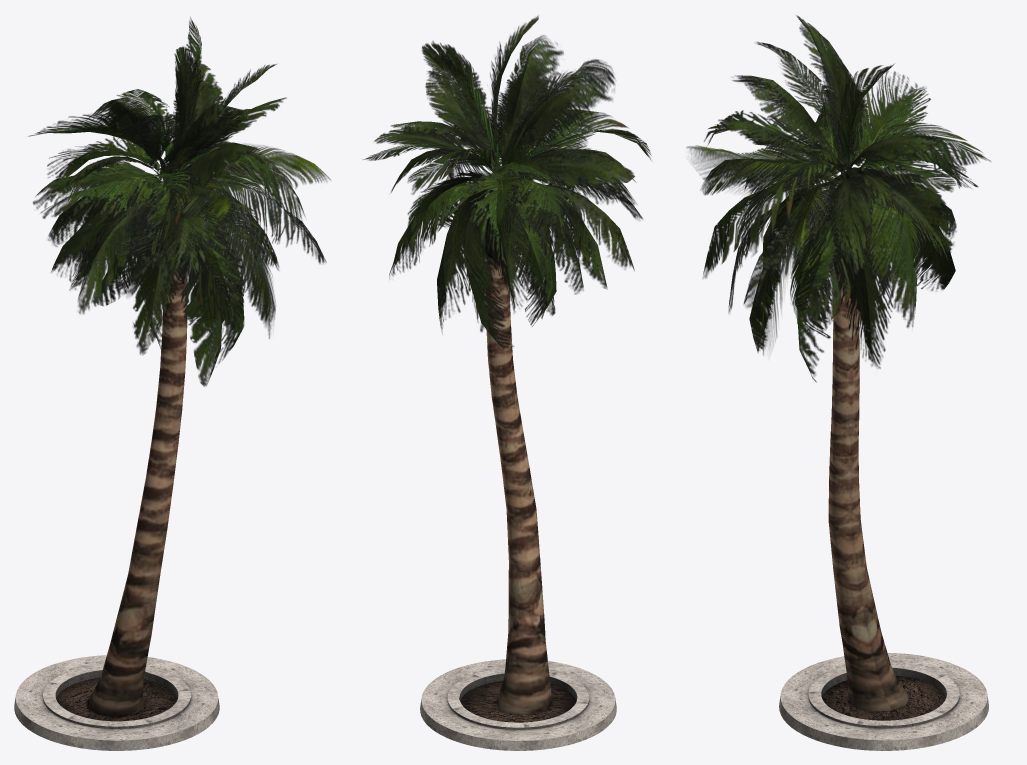
Rendered from street_el_1.glb.
The picture shows the model from 3 angles, left to right: view 1: azimuth 30°, elevation 25°; view 2: azimuth 150°, elevation 25°; view 3: azimuth 270°, elevation 25°; orthographic projection. The views are drawn at different scales.
Visible parts, largest first — view 1: street_el_1; view 2: street_el_1; view 3: street_el_1.
Boxes of the visible parts, x1=… form: street_el_1: x1=14, y1=17, x2=330, y2=750; street_el_1: x1=363, y1=15, x2=651, y2=750; street_el_1: x1=686, y1=15, x2=990, y2=750.
Size of the model in its own units: 1.96 by 4.71 by 1.98.
Materials: 2 (2 with a texture image).
